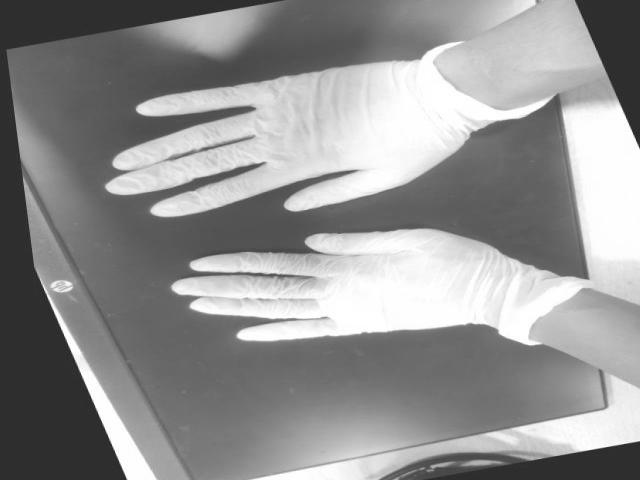gloved: (101, 58, 439, 216), (174, 227, 500, 345)
